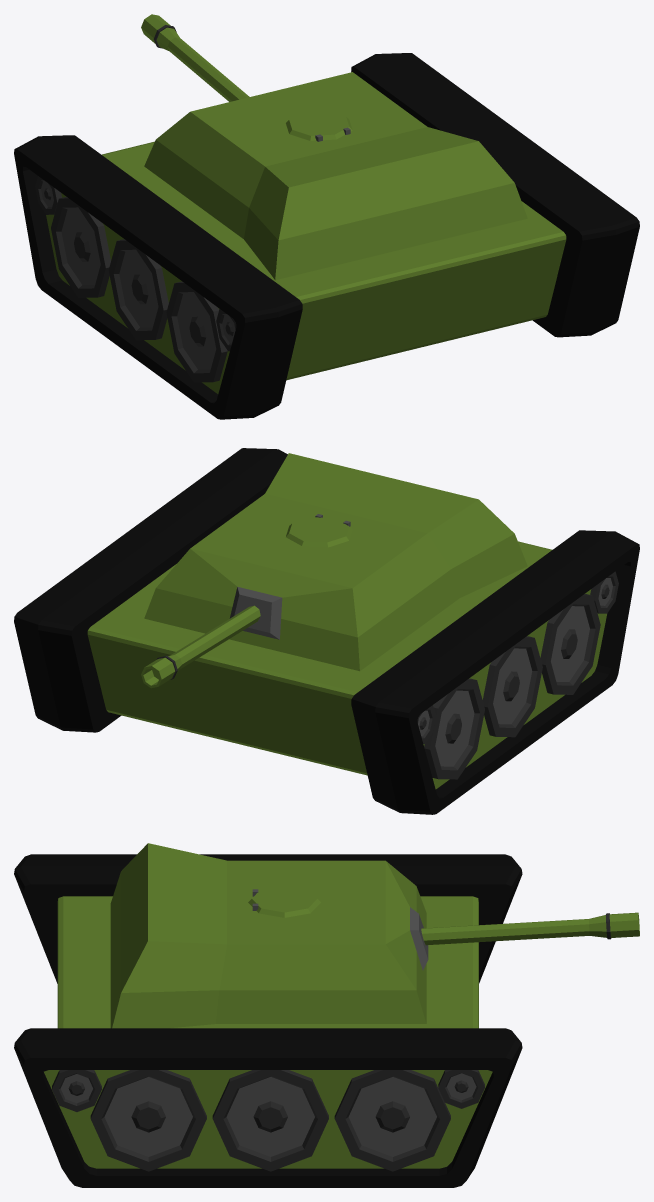
The model's file is TestTank.glb.
The picture shows the model from 3 angles, top to bottom: view 1: azimuth 30°, elevation 25°; view 2: azimuth 150°, elevation 25°; view 3: azimuth 270°, elevation 25°; orthographic projection. The views are drawn at different scales.
Parts seen in each view (by area): view 1: Cube.001, Cube.002, Cylinder, Cylinder.001; view 2: Cube.001, Cube.002, Cylinder, Cylinder.001; view 3: Cube.001, Cube.002, Cylinder, Cylinder.001.
Boxes of the visible parts, x1,y1,x2,y2 form: Cube.001: (14,53,639,419); Cube.002: (144,72,527,280); Cylinder: (141,14,249,101); Cylinder.001: (286,110,352,140); Cube.001: (14,448,639,814); Cube.002: (144,453,527,671); Cylinder: (141,605,260,688); Cylinder.001: (286,517,352,547); Cube.001: (14,854,522,1187); Cube.002: (110,843,428,1028); Cylinder: (421,912,639,945); Cylinder.001: (248,884,320,917).
Size of the model in its own units: 1.34 by 0.6022 by 1.74.
